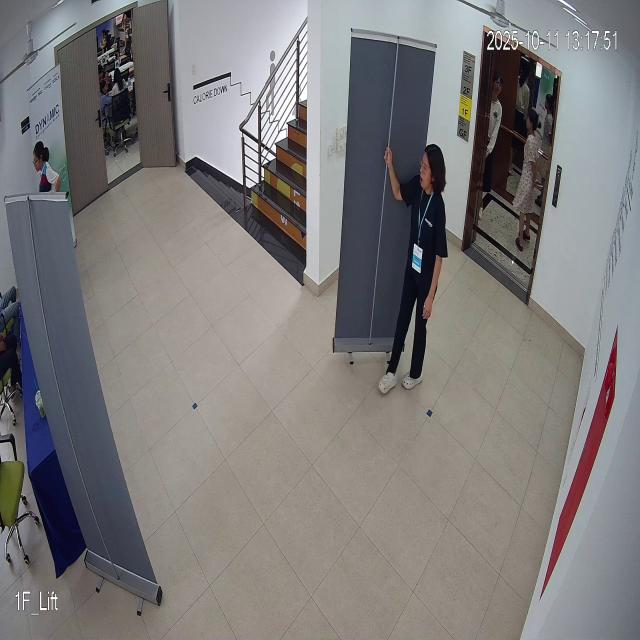face: (418, 136, 450, 202)
